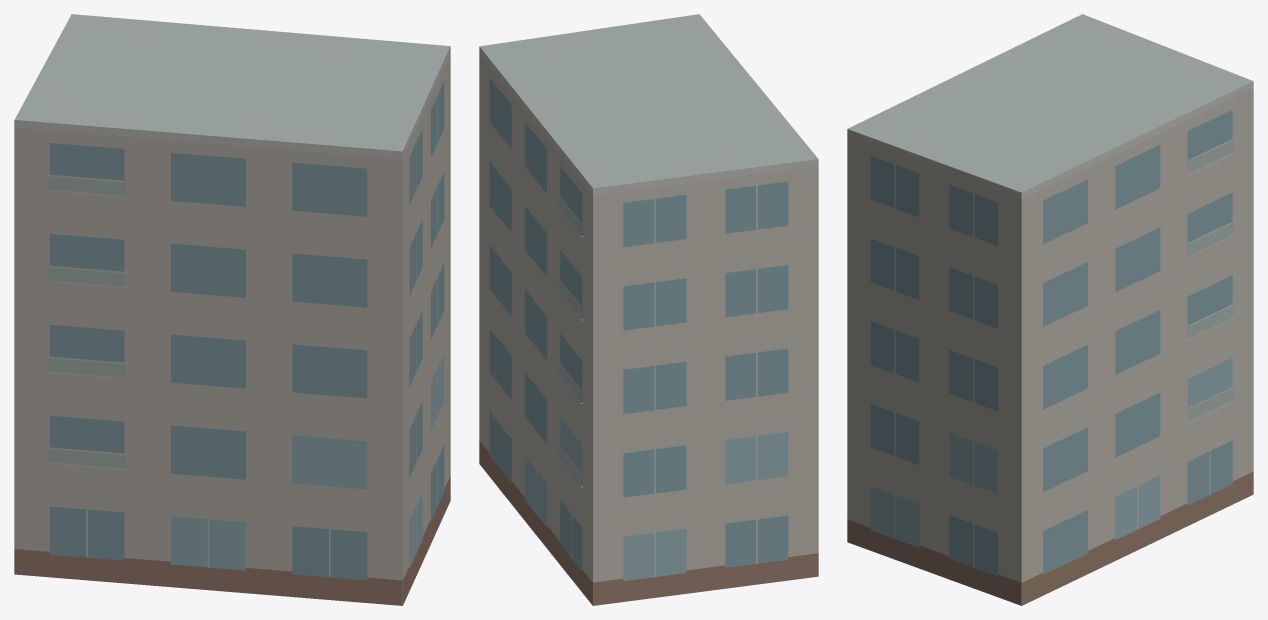
File: survey-upis-32984950.glb
The picture shows the model from 3 angles, left to right: view 1: azimuth 30°, elevation 25°; view 2: azimuth 150°, elevation 25°; view 3: azimuth 270°, elevation 25°; orthographic projection. The views are drawn at different scales.
Visible parts, largest first — view 1: survey-upis-32984950.tmp; view 2: survey-upis-32984950.tmp; view 3: survey-upis-32984950.tmp.
Part boxes in pixels (x1,y1,x2,y2): survey-upis-32984950.tmp: (14, 14, 450, 605); survey-upis-32984950.tmp: (479, 14, 818, 605); survey-upis-32984950.tmp: (847, 14, 1253, 605).
Bounding box in the file's own units: 13.17 × 14.2 × 12.66.
